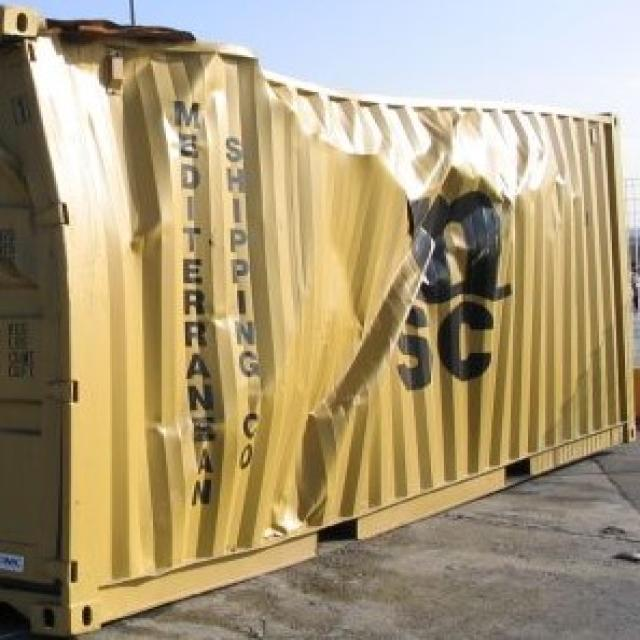dent: (139, 44, 527, 117), (333, 224, 432, 400), (20, 35, 80, 321), (103, 72, 167, 233), (293, 406, 336, 519)
